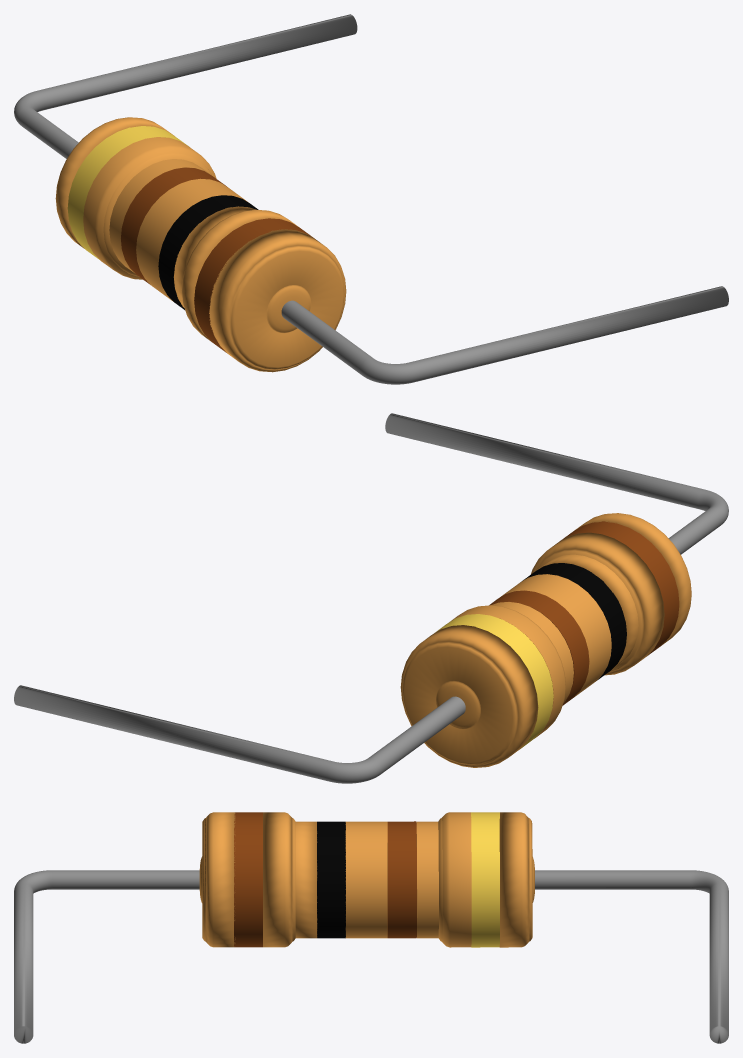
The model's file is resistencia_100_ohms.fbx.
3 renders of one model, top to bottom at view 1: azimuth 30°, elevation 25°; view 2: azimuth 150°, elevation 25°; view 3: azimuth 270°, elevation 25°, orthographic. The views are drawn at different scales.
Parts seen in each view (by area): view 1: Cilindro10, Cilindro01, Cilindro07, Cilindro03, Cilindro05, Cilindro08, Cilindro02, Cilindro06, Cilindro04, Cilindro09; view 2: Cilindro10, Cilindro09, Cilindro03, Cilindro07, Cilindro05, Cilindro08, Cilindro02, Cilindro06, Cilindro04, Cilindro01; view 3: Cilindro10, Cilindro07, Cilindro03, Cilindro05, Cilindro09, Cilindro01, Cilindro08, Cilindro02, Cilindro06, Cilindro04.
Part boxes in pixels (x1,y1,x2,y2): Cilindro10: (14, 14, 728, 384); Cilindro01: (209, 229, 346, 372); Cilindro07: (83, 137, 216, 279); Cilindro03: (173, 206, 299, 341); Cilindro05: (136, 178, 248, 301); Cilindro08: (67, 126, 188, 259); Cilindro02: (194, 218, 314, 352); Cilindro06: (121, 167, 226, 284); Cilindro04: (158, 195, 258, 309); Cilindro09: (55, 117, 173, 248); Cilindro10: (14, 413, 728, 783); Cilindro09: (400, 625, 538, 767); Cilindro03: (531, 532, 664, 675); Cilindro07: (450, 602, 573, 737); Cilindro05: (500, 574, 611, 696); Cilindro08: (435, 614, 553, 748); Cilindro02: (559, 521, 679, 655); Cilindro06: (489, 590, 589, 705); Cilindro04: (521, 563, 626, 680); Cilindro01: (575, 513, 691, 644); Cilindro10: (14, 870, 728, 1043); Cilindro07: (416, 812, 471, 947); Cilindro03: (263, 812, 317, 947); Cilindro05: (345, 821, 387, 938); Cilindro09: (499, 812, 534, 947); Cilindro01: (199, 812, 235, 947); Cilindro08: (471, 812, 499, 947); Cilindro02: (234, 812, 262, 947); Cilindro06: (387, 821, 416, 938); Cilindro04: (317, 821, 345, 938).
Bounding box in the file's own units: 4498 × 1400 × 7398.
